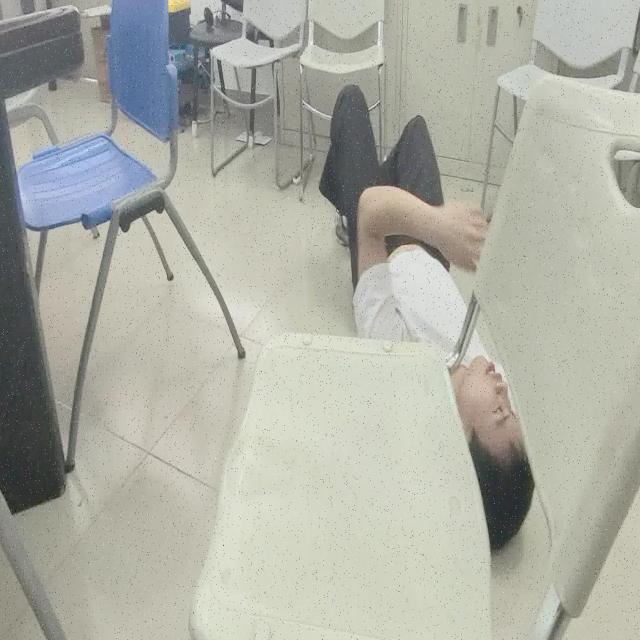fall: (321, 84, 537, 547)
